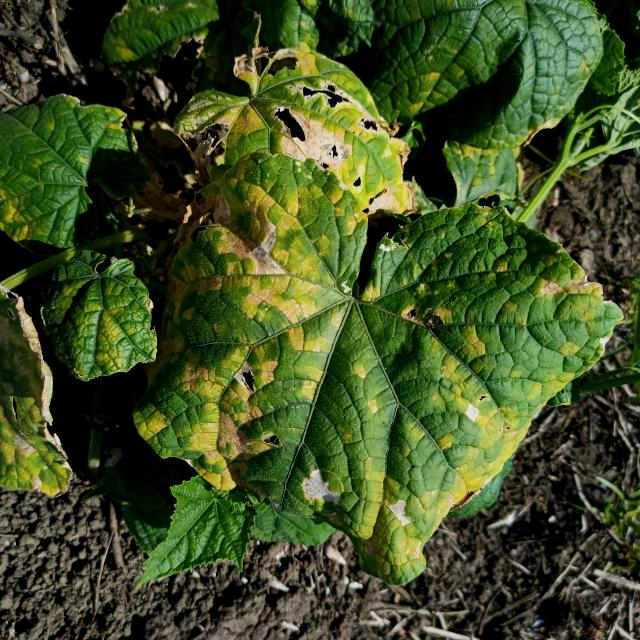disease_cucumber: (152, 69, 611, 582)
